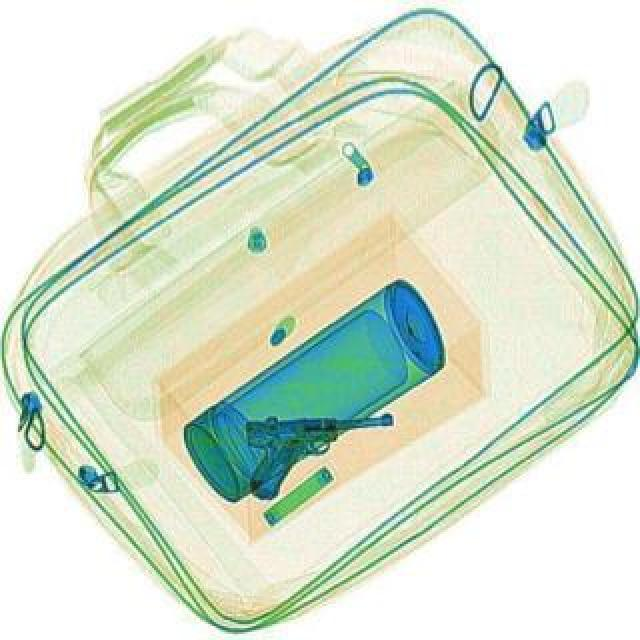gun: (242, 410, 398, 498)
